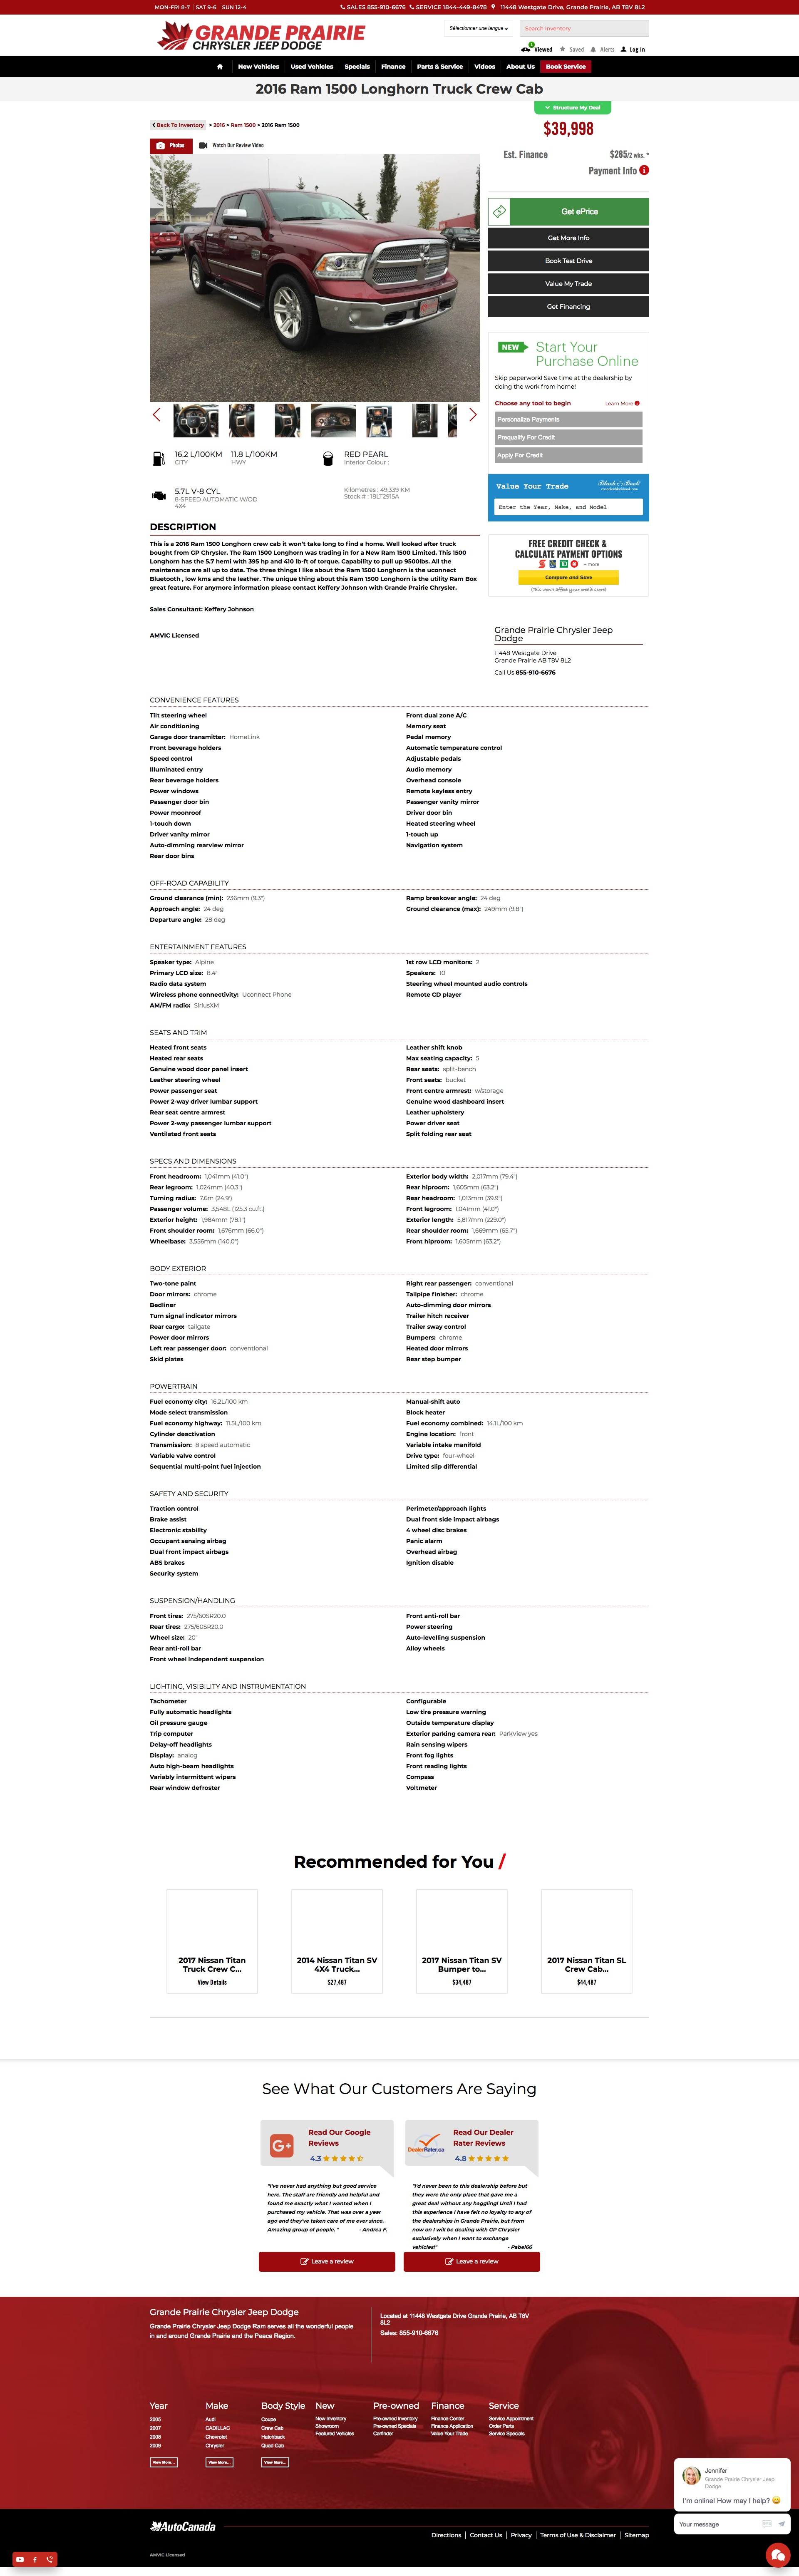car: (470, 407, 477, 422)
